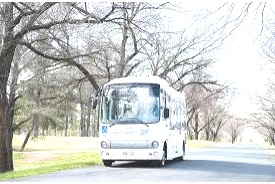bus: (95, 76, 187, 167)
